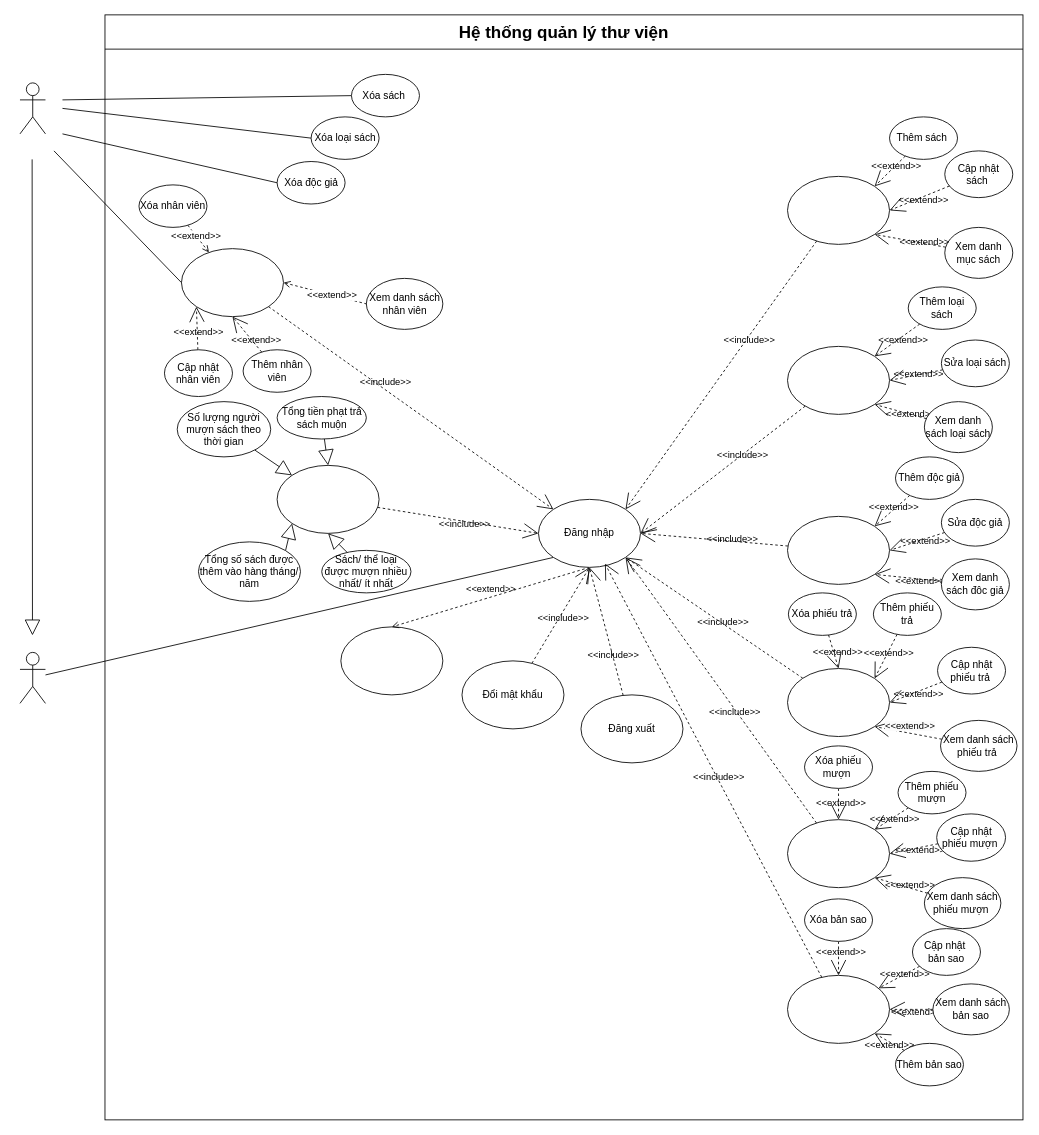
Some shapes in this 1039 by 1135 pixel diagram are drawn without their labels. The shapes that lost their labels are listed below. From the top down, each one's centre as x and y in pixels, then its label:
(32,108): Quản lý
(838,210): Quản lý danh mục sách
(232,282): Quản lý nhân viên
(838,380): Quản lý loại sách
(327,499): Thống kê
(838,550): Quản lý độc giả
(32,677): Thủ thư
(391,660): Quên mật khẩu
(838,702): Quản lý thông tin phiếu trả
(838,853): Quản lý thông tin phiếu mượn
(838,1009): Quản lý bản sao
